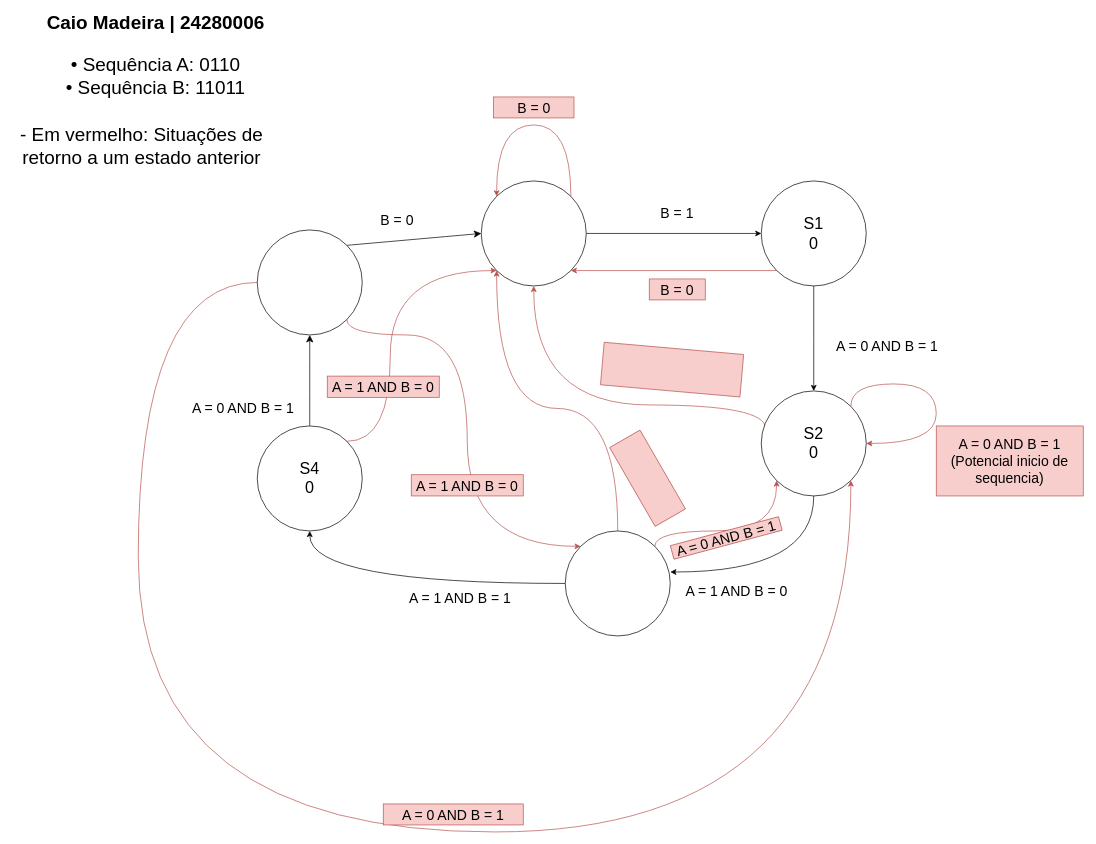
Some shapes in this 1096 by 844 pixel diagram are drawn without their labels. The shapes that lost their labels are listed below. From the top down, each one's centre as x and y in pixels, then its label:
At point 533,233: "S0 (idle) 0".
At point 309,282: "S5 1".
At point 672,369: "if A = 0 AND B = 0; if A = 1 AND B = 1;".
At point 647,477: "A = 1 AND B = 0; A = 0 AND B = 0;".
At point 617,583: "S3 0".
